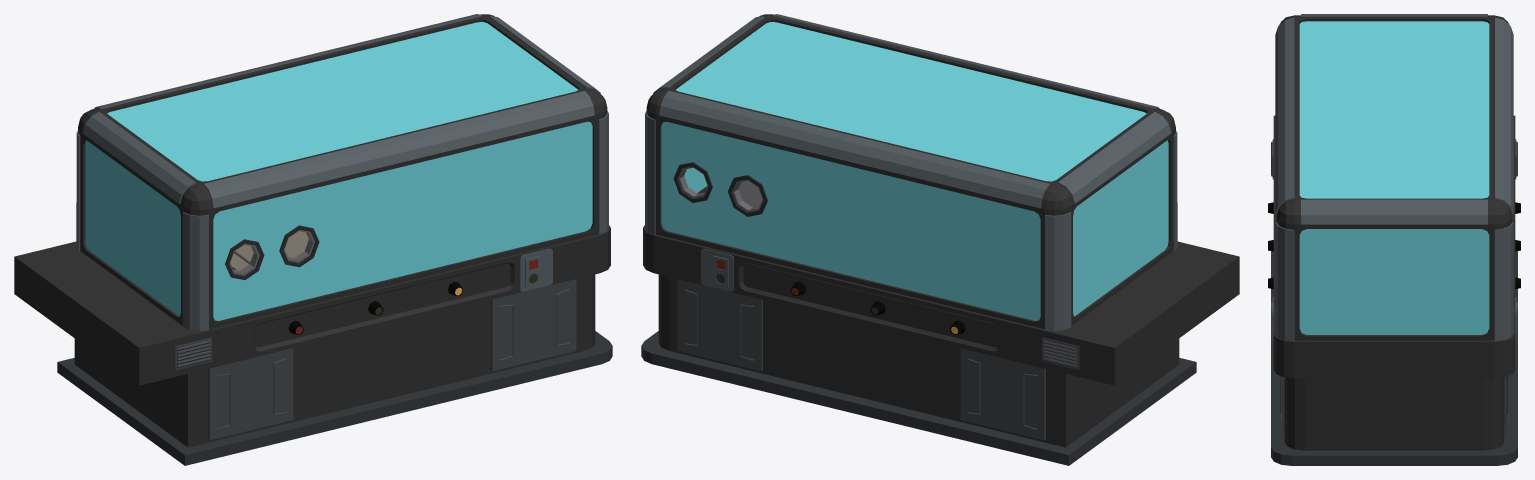
Rendered from SM_MedicalBox.gltf.
The picture shows the model from 3 angles, left to right: view 1: azimuth 30°, elevation 25°; view 2: azimuth 150°, elevation 25°; view 3: azimuth 270°, elevation 25°; orthographic projection. The views are drawn at different scales.
Parts seen in each view (by area): view 1: SM_MedicalBox; view 2: SM_MedicalBox; view 3: SM_MedicalBox.
Part boxes in pixels (<box>): SM_MedicalBox: <box>14,14,612,465</box>; SM_MedicalBox: <box>641,14,1239,465</box>; SM_MedicalBox: <box>1268,14,1520,465</box>.
Bounding box in the file's own units: 2.28 × 1.21 × 1.07.
